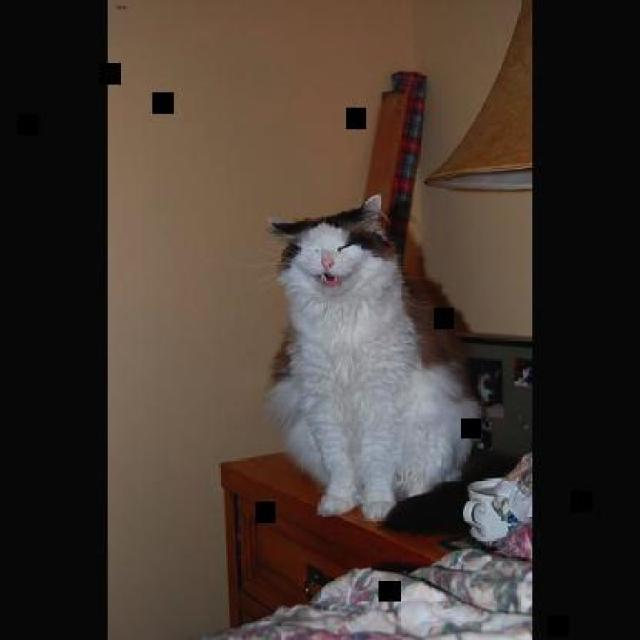unauthorized: (263, 192, 482, 523)
